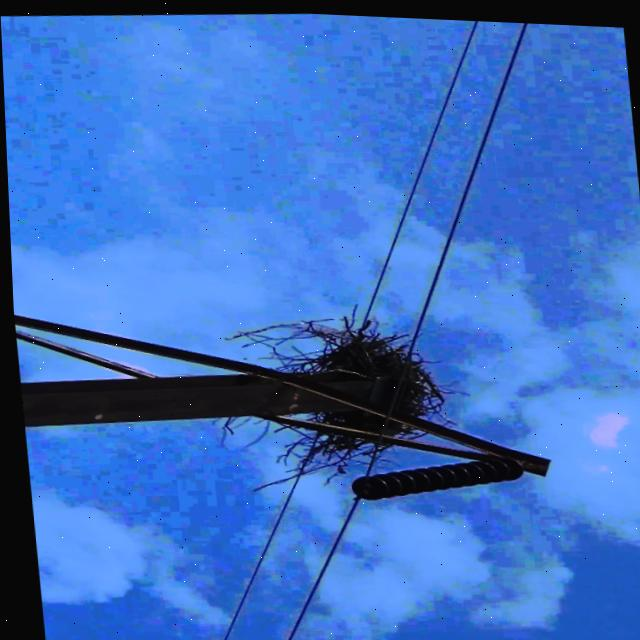obstruction: (220, 300, 408, 376), (211, 413, 313, 491), (391, 329, 458, 424), (299, 428, 373, 481), (323, 409, 376, 429), (379, 415, 425, 437), (366, 440, 395, 469)
poles: (11, 313, 377, 412), (13, 332, 358, 427), (345, 407, 546, 497), (294, 368, 385, 400), (256, 413, 369, 437)
wires: (407, 18, 528, 349), (357, 17, 478, 327), (215, 472, 298, 640), (280, 495, 355, 640), (354, 347, 410, 475), (293, 430, 316, 474), (317, 410, 327, 420)
